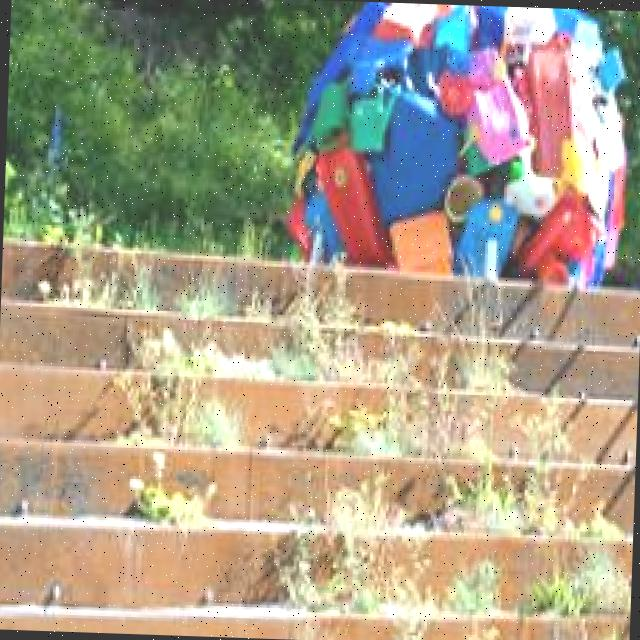stairs: (0, 150, 635, 640)
